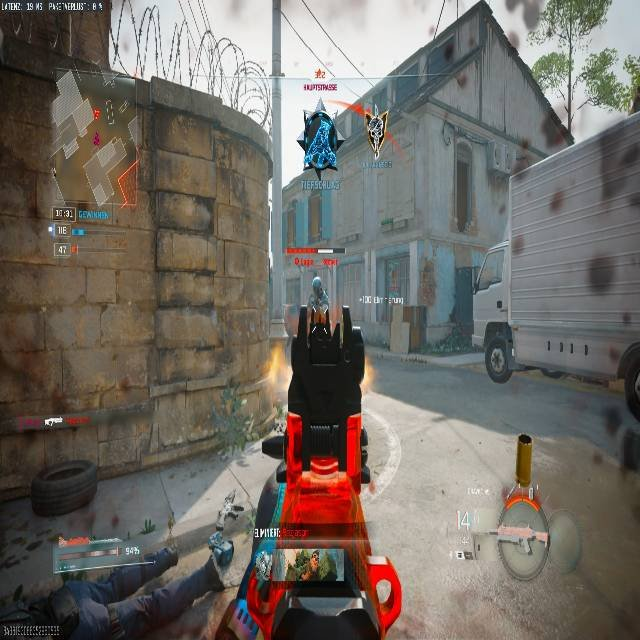head: (311, 276, 321, 289)
player: (297, 102, 338, 174), (309, 275, 328, 326)
